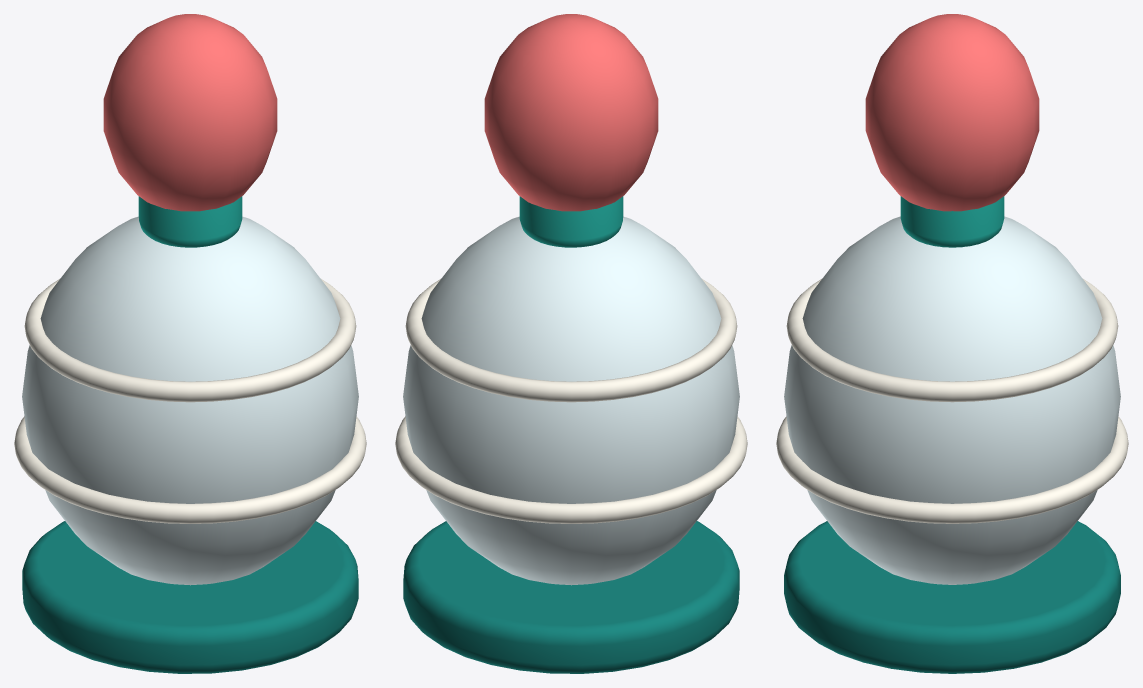
The model's file is SiphonBig.fbx.
3 renders of one model, left to right at view 1: azimuth 30°, elevation 25°; view 2: azimuth 150°, elevation 25°; view 3: azimuth 270°, elevation 25°, orthographic.
Parts seen in each view (by area): view 1: SiphonBig mesh; view 2: SiphonBig mesh; view 3: SiphonBig mesh.
Part boxes in pixels (bbox=[...]): SiphonBig mesh: bbox=[14, 14, 366, 673]; SiphonBig mesh: bbox=[395, 14, 747, 673]; SiphonBig mesh: bbox=[776, 14, 1128, 673].
Bounding box in the file's own units: 0.136 × 0.25 × 0.136.
